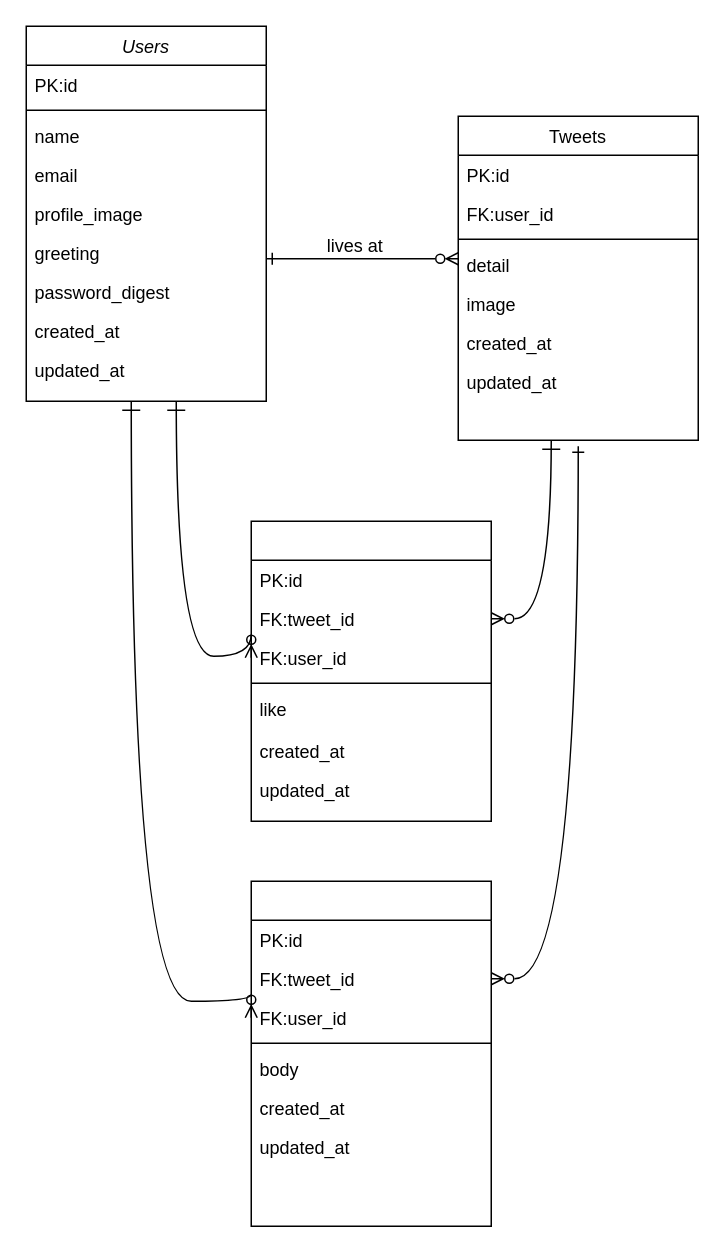
Some shapes in this 725 by 1253 pixel diagram are drawn without their labels. Here are the shapes that lost their labels. From the top down, the box of each, then its label:
(250, 520, 491, 821): Likes
(250, 880, 491, 1226): Comments
